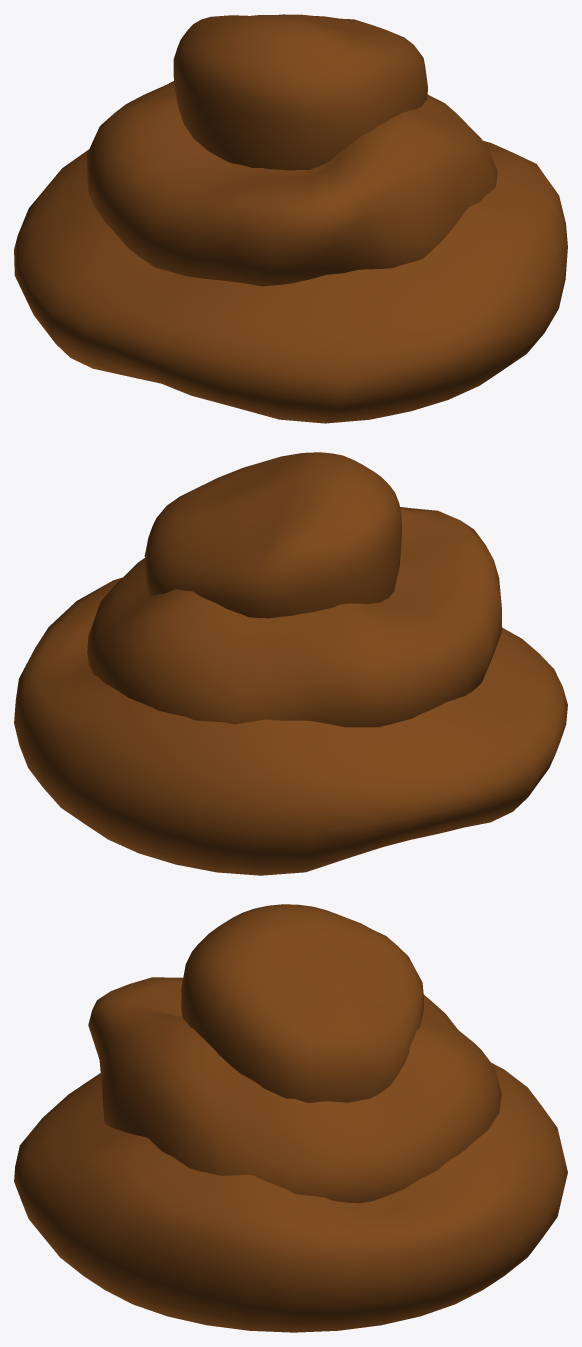
File: Shit.fbx
The picture shows the model from 3 angles, top to bottom: view 1: azimuth 30°, elevation 25°; view 2: azimuth 150°, elevation 25°; view 3: azimuth 270°, elevation 25°; orthographic projection. The views are drawn at different scales.
Visible parts, largest first — view 1: Sphere, Sphere.001, Sphere.002; view 2: Sphere, Sphere.001, Sphere.002; view 3: Sphere, Sphere.001, Sphere.002.
Boxes of the visible parts, left/top/right/bottom form: Sphere: left=14, top=140, right=567, bottom=423; Sphere.001: left=87, top=81, right=497, bottom=286; Sphere.002: left=173, top=14, right=427, bottom=170; Sphere: left=14, top=577, right=567, bottom=875; Sphere.001: left=87, top=507, right=501, bottom=727; Sphere.002: left=144, top=452, right=401, bottom=618; Sphere: left=14, top=1063, right=567, bottom=1332; Sphere.001: left=88, top=977, right=501, bottom=1203; Sphere.002: left=181, top=904, right=423, bottom=1102.
Bounding box in the file's own units: 4.35 × 2.93 × 4.37.
